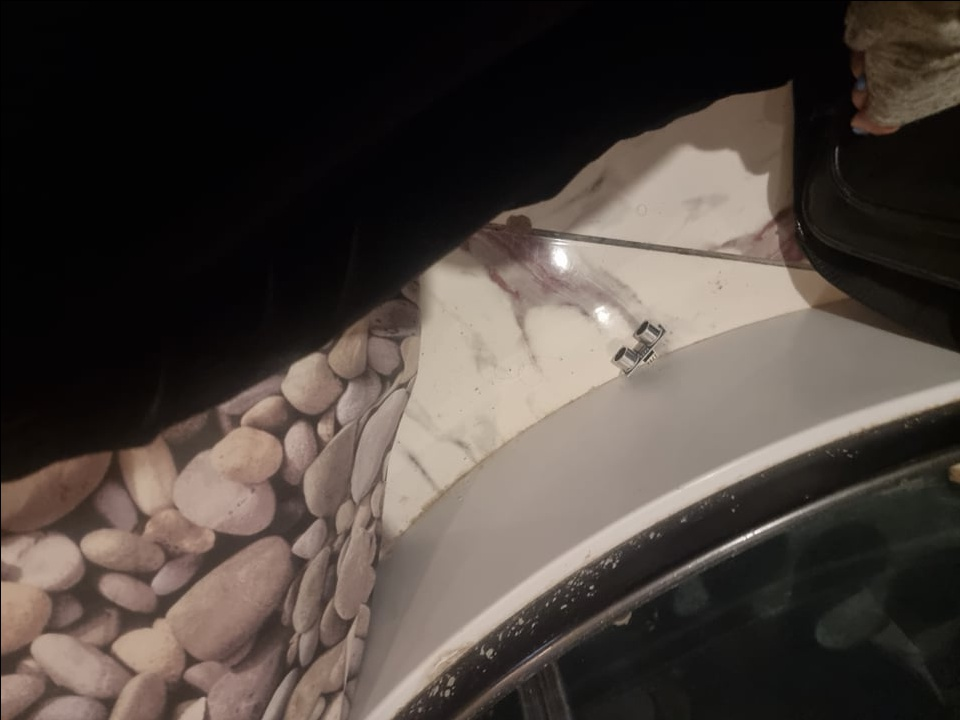SENSOR: (610, 317, 671, 374)
